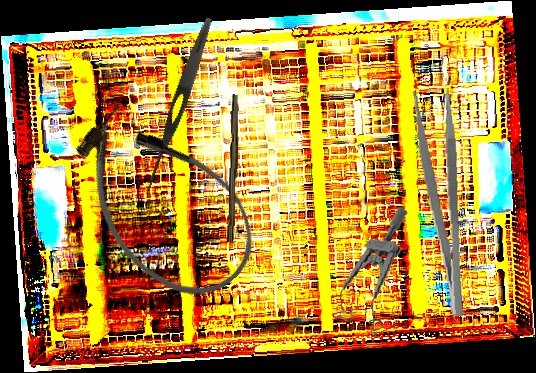Cannula: (48, 83, 279, 323)
Dressing Forceps: (141, 15, 217, 195), (411, 87, 469, 319)
Scalpel Handle: (227, 94, 241, 243)
Speculum: (332, 199, 409, 341)
